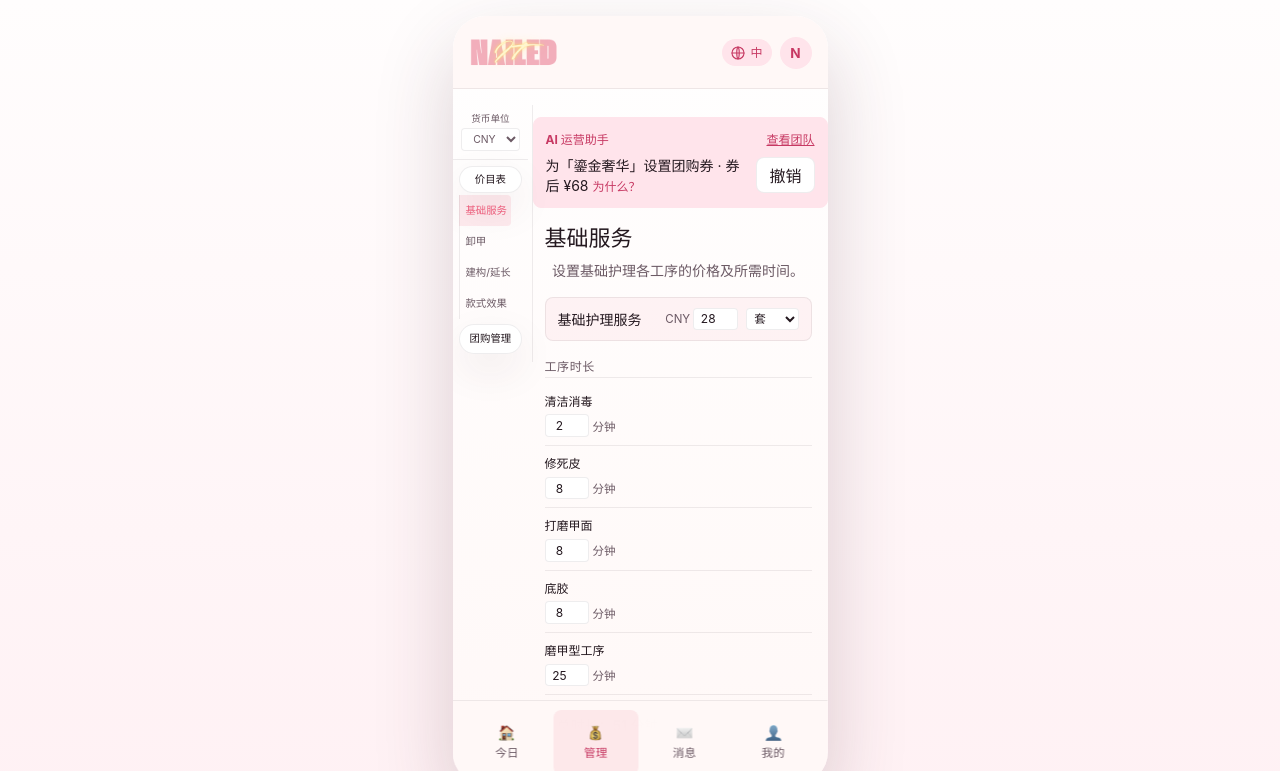
Test: MerchantManagePage › copies a deal and shows the copy as a draft in the list
Expected: the number field named "基础护理服务 单价" is shown, [693, 308, 738, 330]
Click the button "团购管理": click(490, 339) [459, 324, 522, 354]
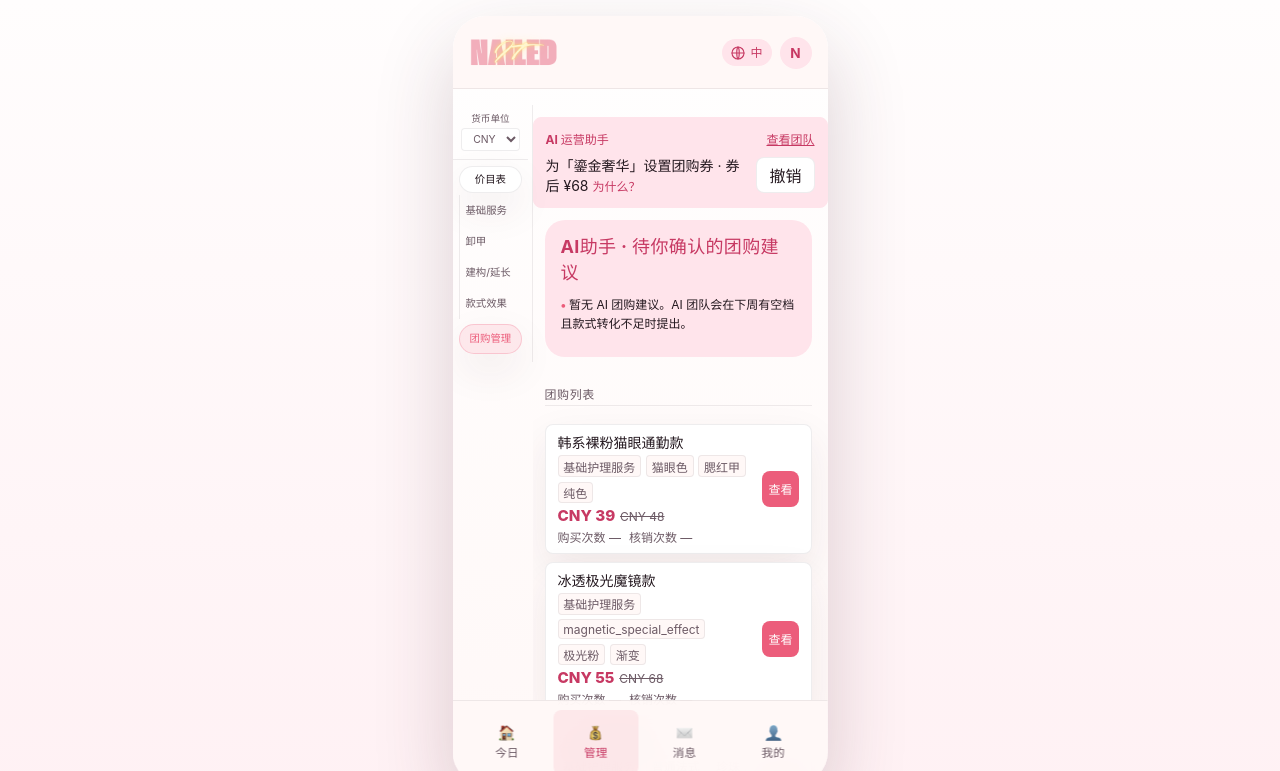
Click the button "查看" next to "腮红甲": click(780, 489) [762, 471, 798, 507]
(page scrolled)
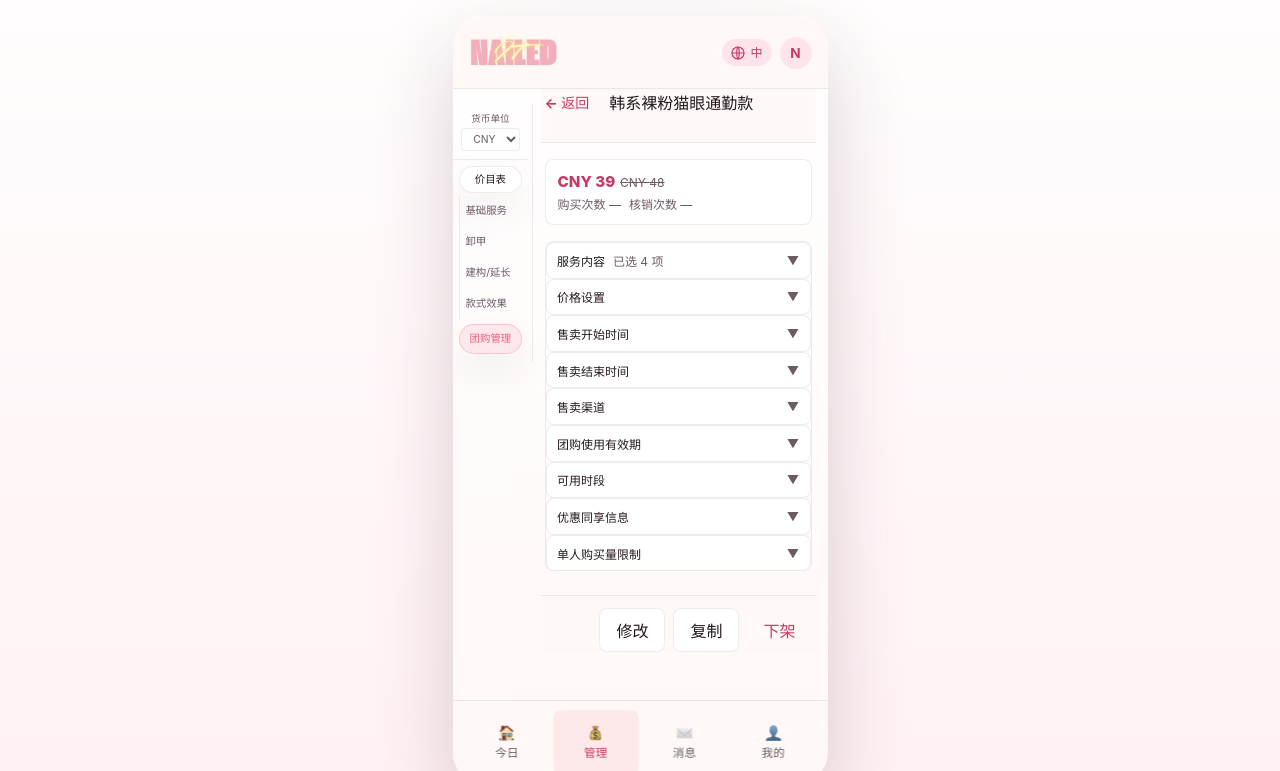
Click the button "复制": click(706, 630) [674, 608, 740, 652]
(page scrolled)
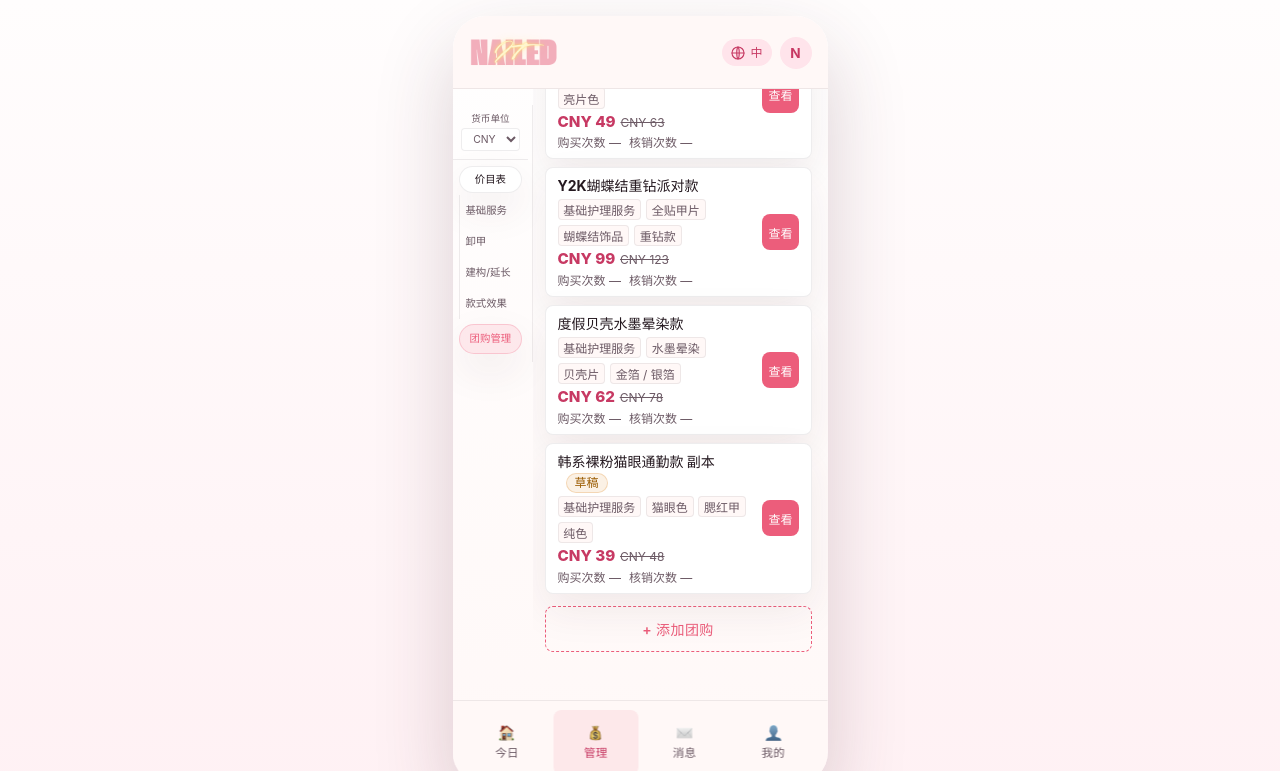
Now the text "韩系裸粉猫眼通勤款 副本 草稿" is shown, box [558, 453, 715, 493]
Now the button "+ 添加团购" is shown, box [544, 606, 812, 652]
Now the text "草稿" is shown, box [566, 473, 608, 493]
